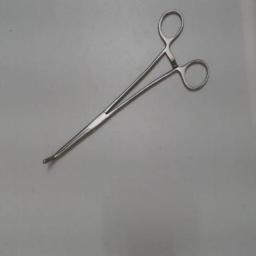Lahey Forceps: (36, 1, 212, 175)
